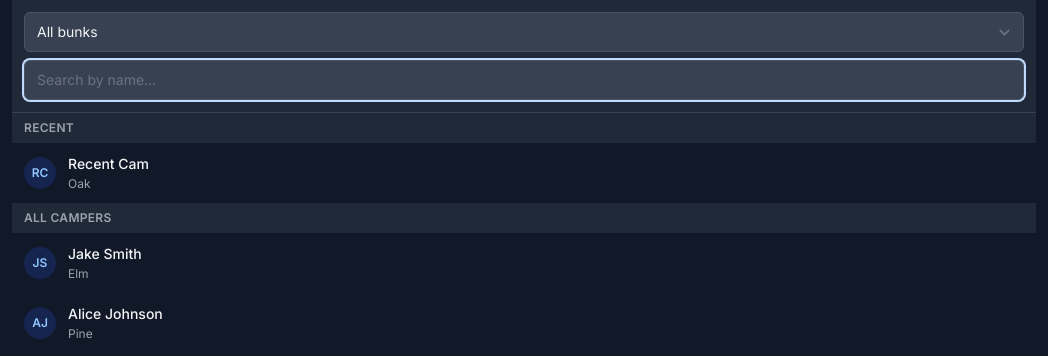
Scenario: CamperPicker › shows clear button when bunk selected and hides Recent section
This screenshot has width=1048, height=356.
Select "Oak" in the dropdown with test id "sp-bunk-select": (524, 32) [24,12,1024,52]
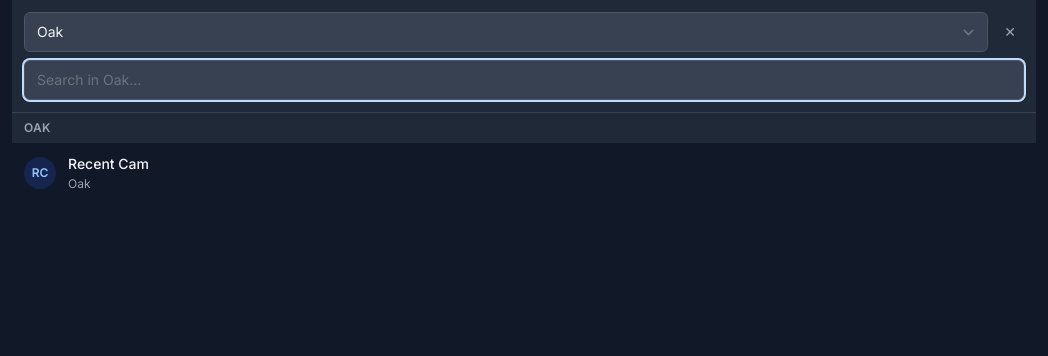
Expected: the button with test id "sp-bunk-clear" is shown, [996,13,1024,51]
Expected: the element with test id "sp-picker-recent" is gone
